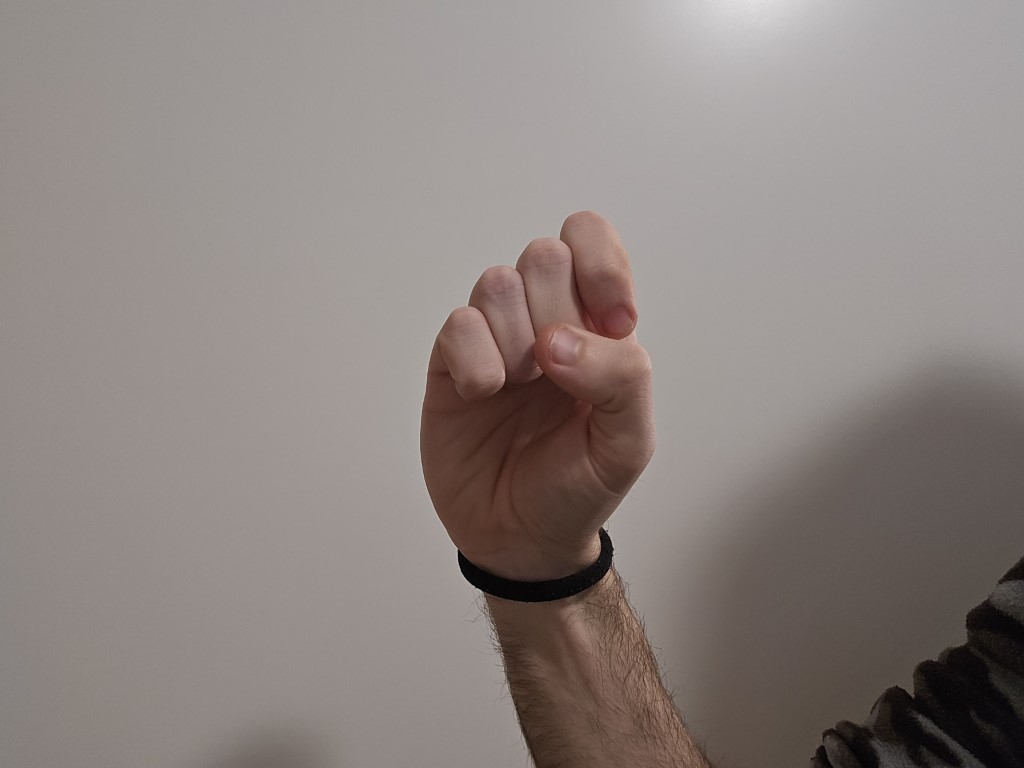s: (398, 191, 680, 566)
